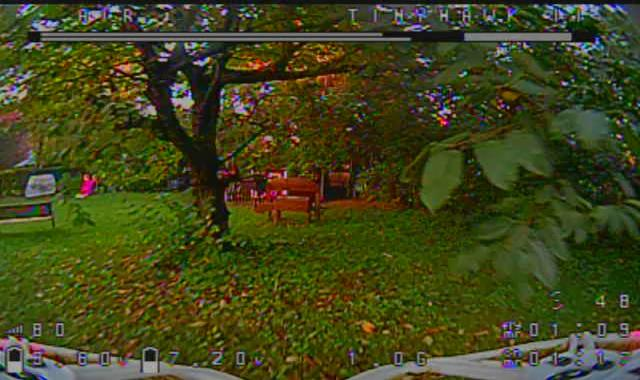horse: (252, 173, 330, 220), (251, 193, 332, 228)
